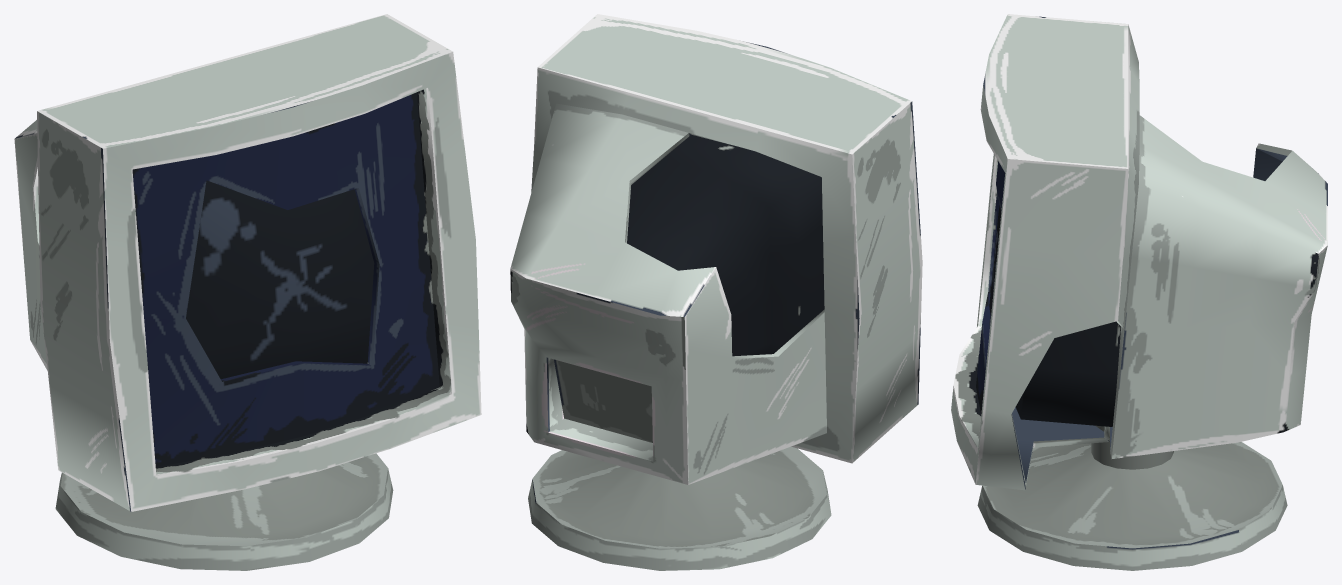
File: Monitor_1.obj
3 views of the same model, side by side, from view 1: azimuth 30°, elevation 25°; view 2: azimuth 150°, elevation 25°; view 3: azimuth 270°, elevation 25° (orthographic). The views are drawn at different scales.
Visible parts, largest first — view 1: Monitor_1_Monitor_1_Material; view 2: Monitor_1_Monitor_1_Material; view 3: Monitor_1_Monitor_1_Material.
Part boxes in pixels (x1,y1,x2,y2): Monitor_1_Monitor_1_Material: (14,14,481,570); Monitor_1_Monitor_1_Material: (510,14,922,570); Monitor_1_Monitor_1_Material: (951,14,1327,570).
Bounding box in the file's own units: 0.5482 × 0.6564 × 0.5367.
